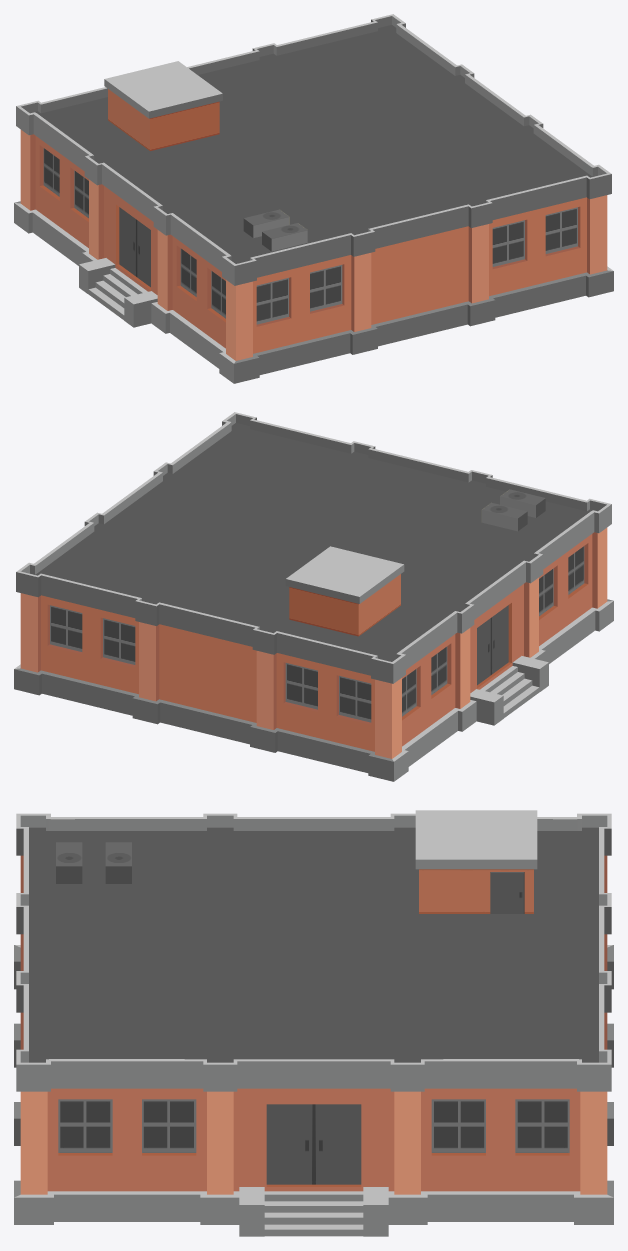
The model's file is factory_big_1.glb.
The picture shows the model from 3 angles, top to bottom: view 1: azimuth 30°, elevation 25°; view 2: azimuth 150°, elevation 25°; view 3: azimuth 270°, elevation 25°; orthographic projection. The views are drawn at different scales.
Parts seen in each view (by area): view 1: factory_large_single_mesh; view 2: factory_large_single_mesh; view 3: factory_large_single_mesh.
Boxes of the visible parts, x1=… form: factory_large_single_mesh: x1=14, y1=14, x2=613, y2=383; factory_large_single_mesh: x1=14, y1=412, x2=613, y2=781; factory_large_single_mesh: x1=14, y1=810, x2=613, y2=1236.
Size of the model in its own units: 0.2617 by 0.0898 by 0.2402.
1 material, 1 textured.
